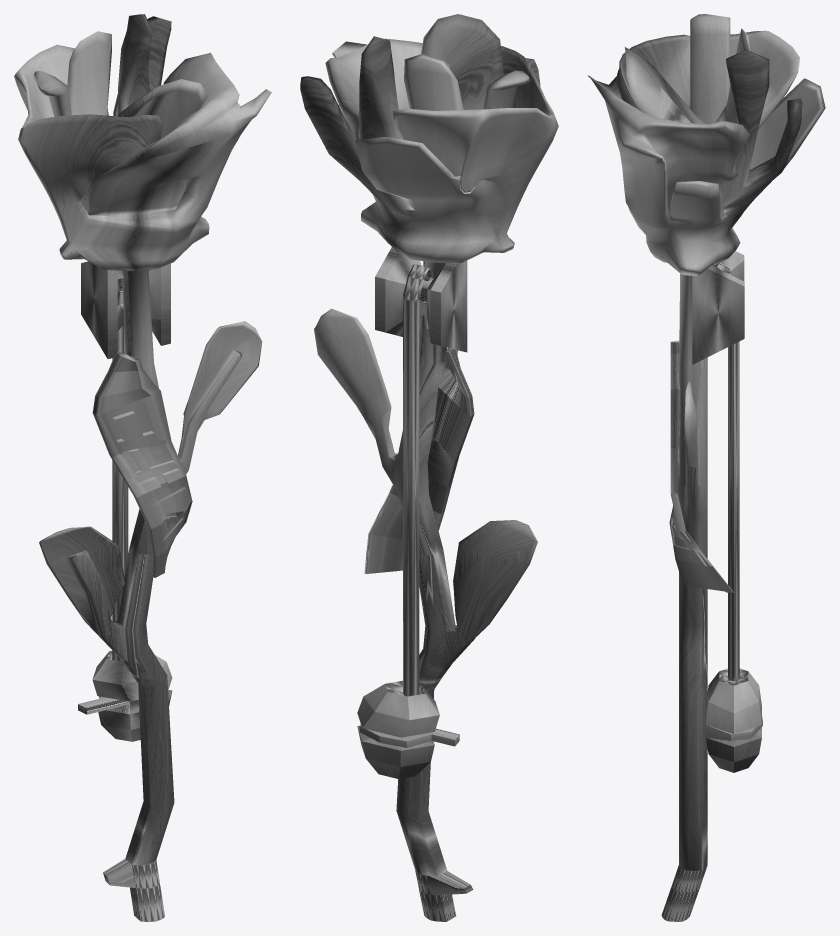
Rendered from Rose_earring.fbx.
3 views of the same model, side by side, from view 1: azimuth 30°, elevation 25°; view 2: azimuth 150°, elevation 25°; view 3: azimuth 270°, elevation 25° (orthographic). The views are drawn at different scales.
Visible parts, largest first — view 1: rose, slash, pin, tomb; view 2: rose, pin, slash, tomb; view 3: rose, pin, tomb, slash.
Part boxes in pixels (left/top/right/bottom): rose: left=14, top=14, right=271, bottom=921; slash: left=92, top=351, right=192, bottom=577; pin: left=78, top=324, right=172, bottom=741; tomb: left=81, top=261, right=170, bottom=358; rose: left=300, top=14, right=558, bottom=921; pin: left=357, top=264, right=459, bottom=778; slash: left=364, top=348, right=474, bottom=573; tomb: left=375, top=247, right=467, bottom=352; rose: left=587, top=14, right=825, bottom=921; pin: left=705, top=262, right=762, bottom=772; tomb: left=692, top=251, right=744, bottom=364; slash: left=669, top=340, right=733, bottom=592.
Bounding box in the file's own units: 1.71 × 5.93 × 1.46.
